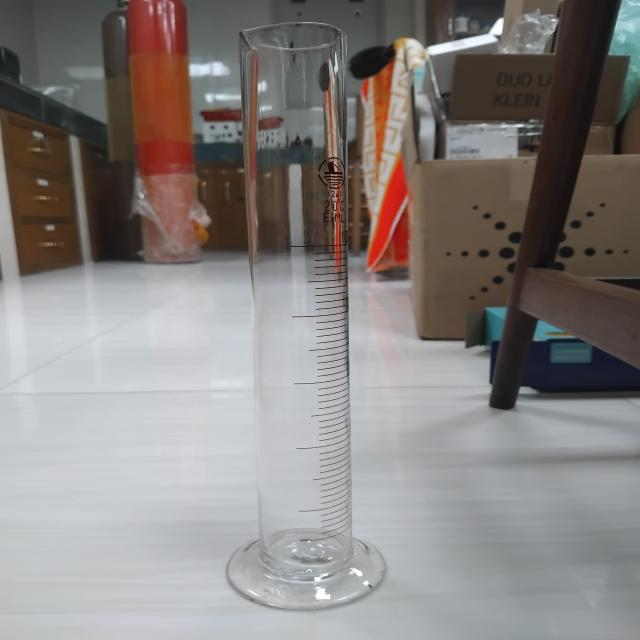Measuring_Cylinder: (217, 3, 409, 630)
